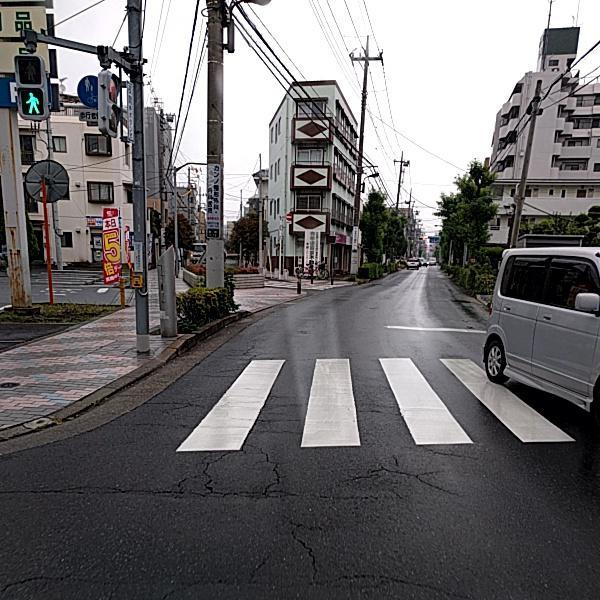D20: (0, 387, 459, 599)
